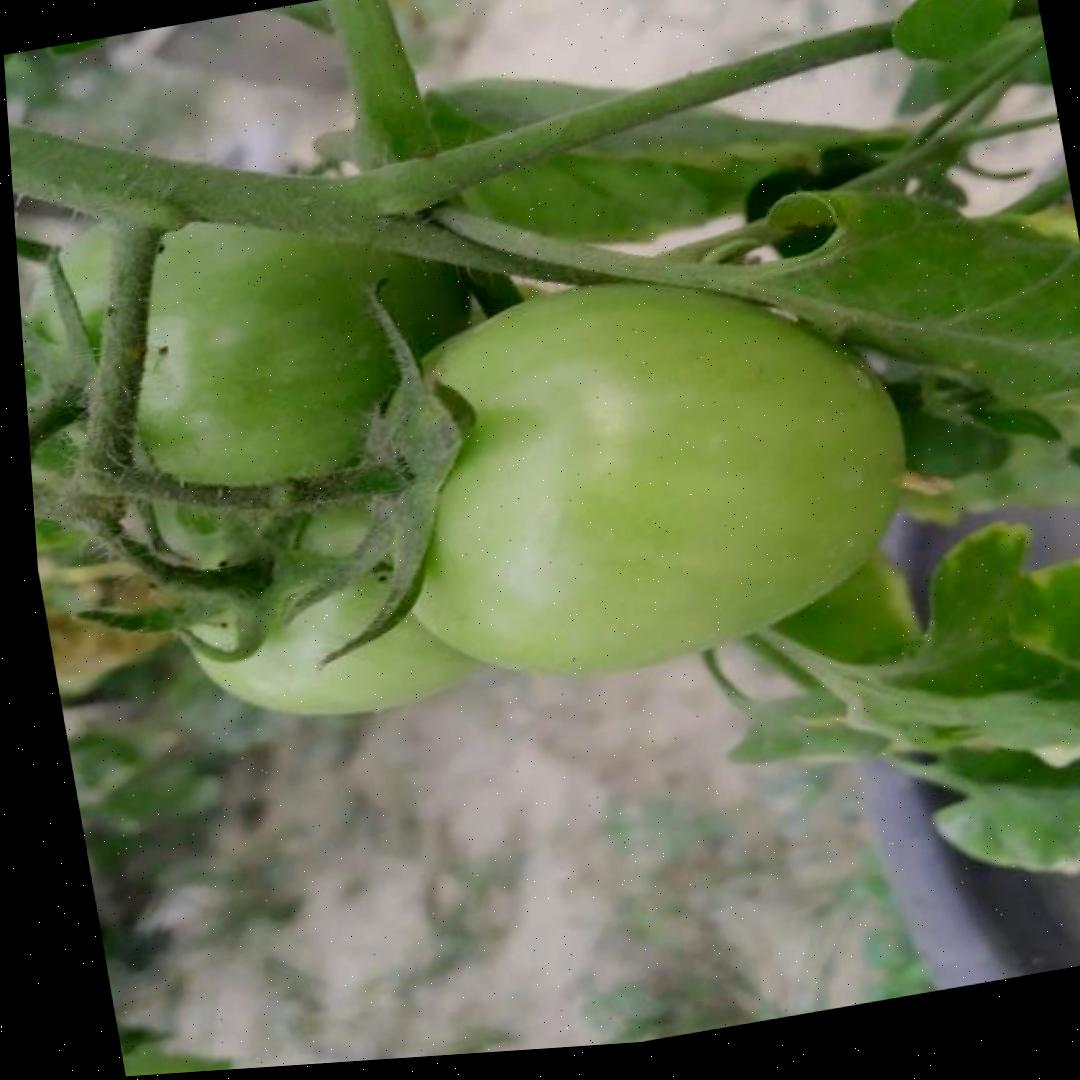mentah: (334, 233, 938, 711), (11, 134, 510, 554)
